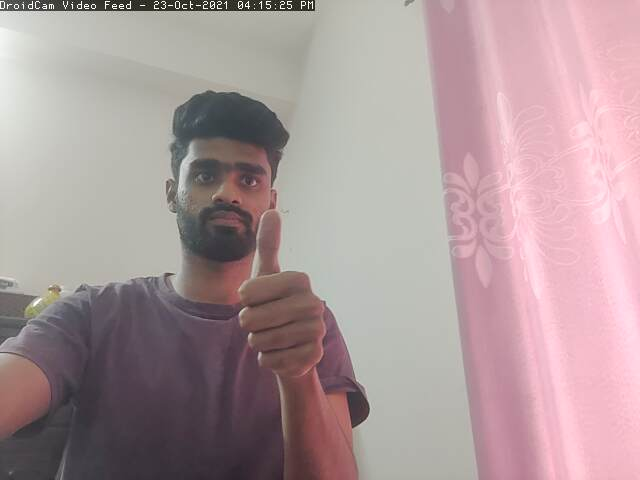ThumbsUp: (229, 208, 329, 385)
